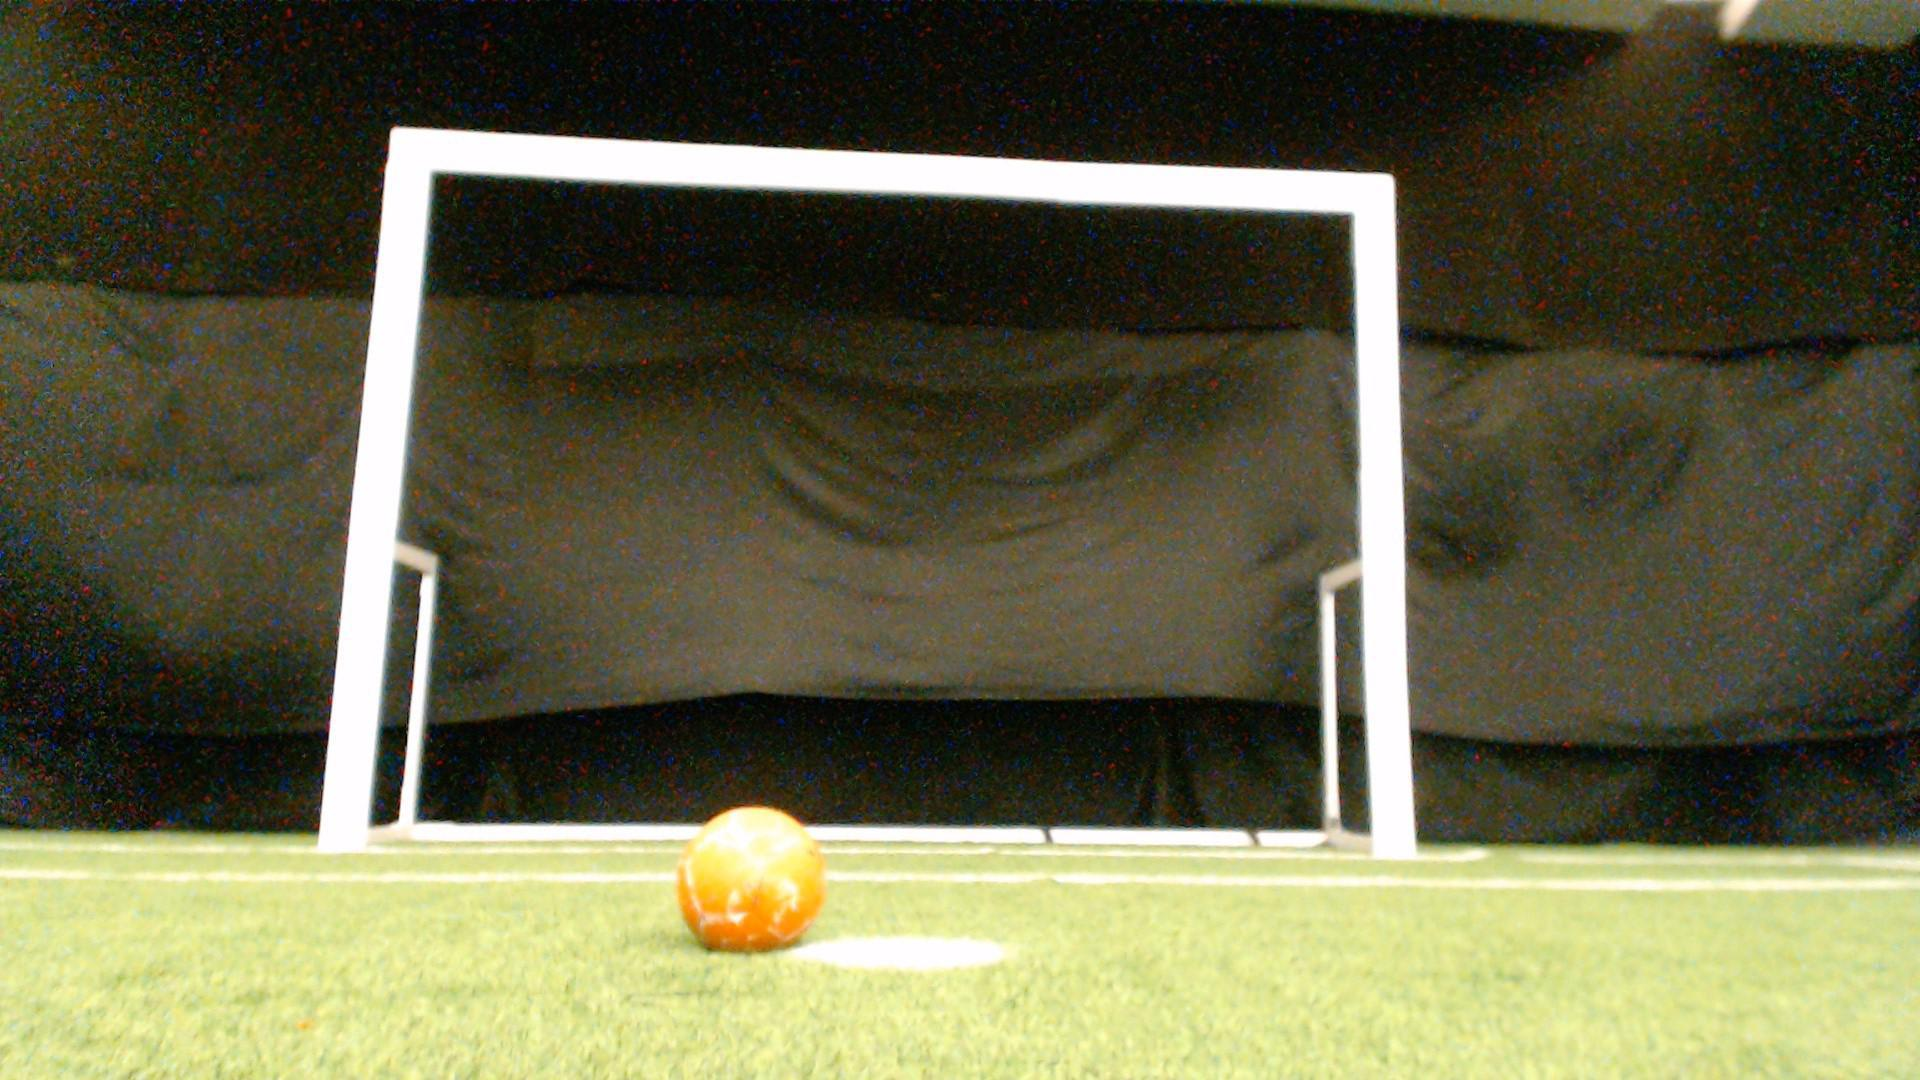bola: (654, 808, 858, 968)
